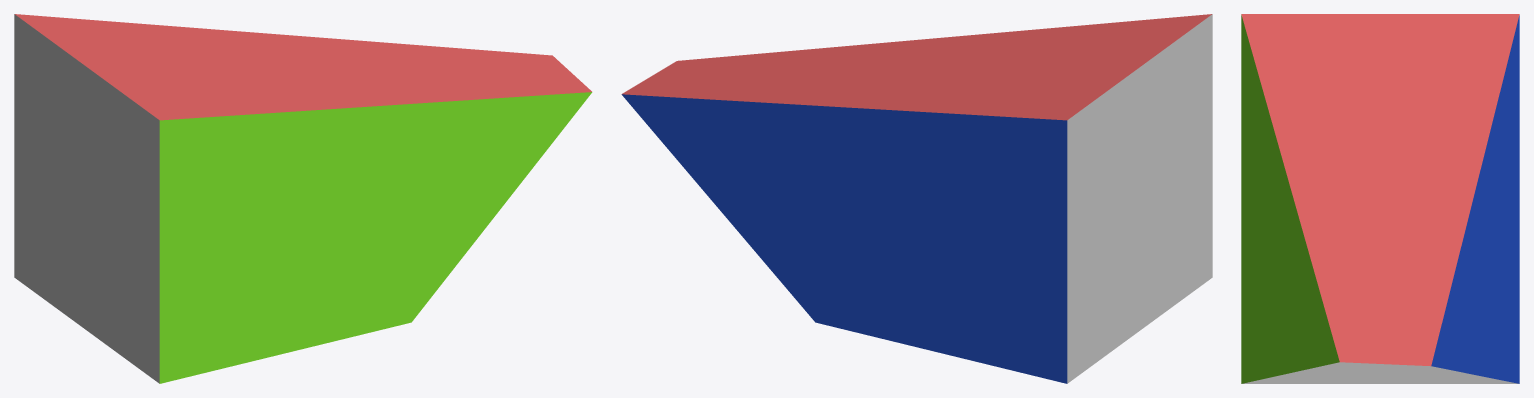
File: gltf_primitives.glb
3 views of the same model, side by side, from view 1: azimuth 30°, elevation 25°; view 2: azimuth 150°, elevation 25°; view 3: azimuth 270°, elevation 25° (orthographic). The views are drawn at different scales.
Visible parts, largest first — view 1: Cube; view 2: Cube; view 3: Cube.
Part boxes in pixels (x1,y1,x2,y2): Cube: (14, 14, 592, 383); Cube: (621, 14, 1212, 383); Cube: (1241, 14, 1519, 383).
Bounding box in the file's own units: 3.91 × 2 × 2.
